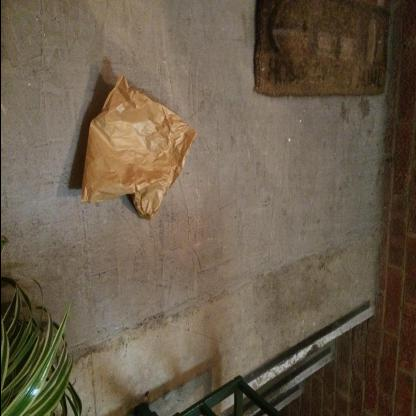kagit: (78, 73, 196, 222)
